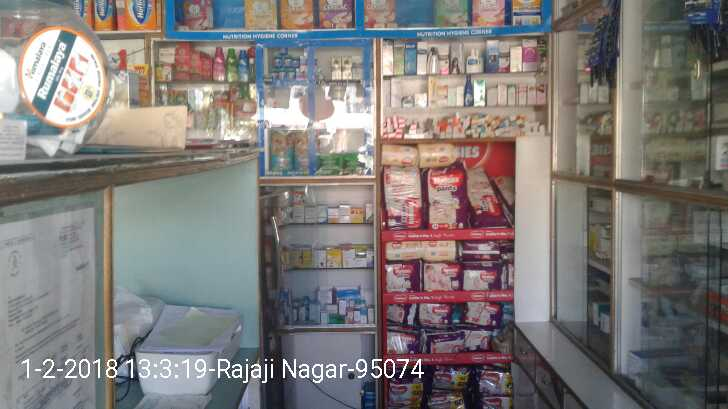beauty: (327, 54, 341, 84), (340, 54, 351, 81)
pharmacy: (270, 127, 292, 172), (295, 130, 318, 173), (317, 151, 343, 175), (345, 153, 372, 175), (270, 55, 285, 67), (280, 54, 291, 70), (276, 45, 287, 53), (291, 57, 298, 67)
